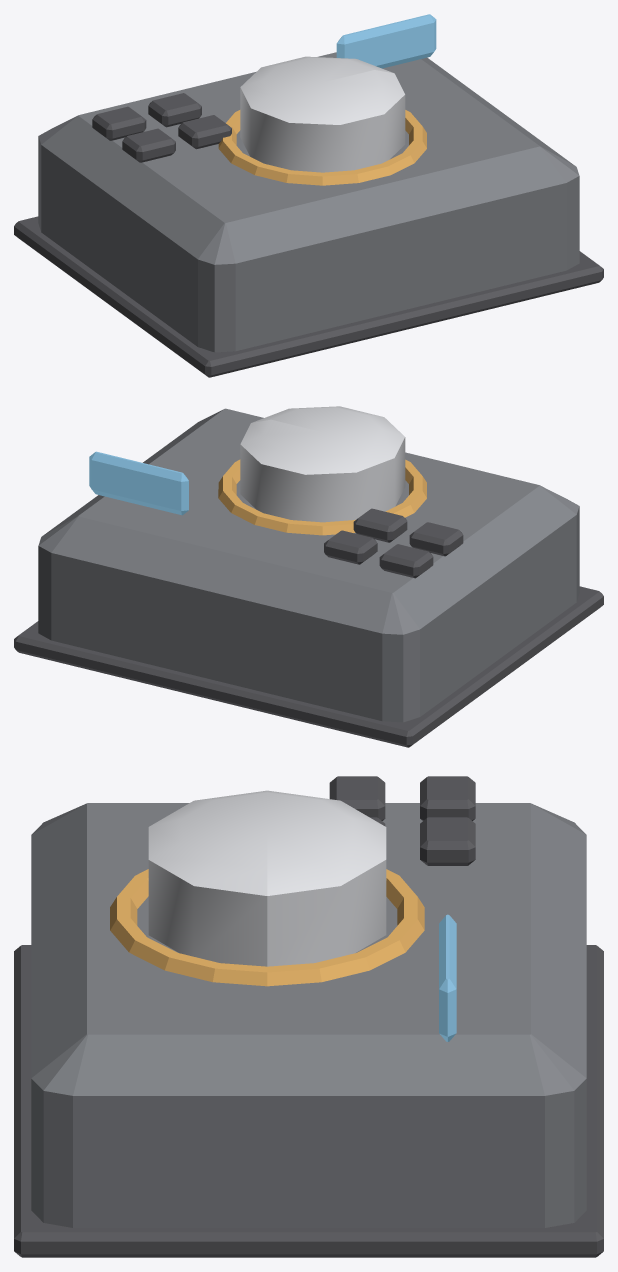
The model's file is music-recording-studio-and-instruments-monitor-control-fc6de645__33812.glb.
The picture shows the model from 3 angles, top to bottom: view 1: azimuth 30°, elevation 25°; view 2: azimuth 150°, elevation 25°; view 3: azimuth 270°, elevation 25°; orthographic projection. The views are drawn at different scales.
Visible parts, largest first — view 1: monitor-controller; view 2: monitor-controller; view 3: monitor-controller.
Boxes of the visible parts, <box> form: monitor-controller: <box>14,14,603,377</box>; monitor-controller: <box>14,406,603,747</box>; monitor-controller: <box>14,776,603,1257</box>.
Bounding box in the file's own units: 0.2 × 0.09 × 0.17.
